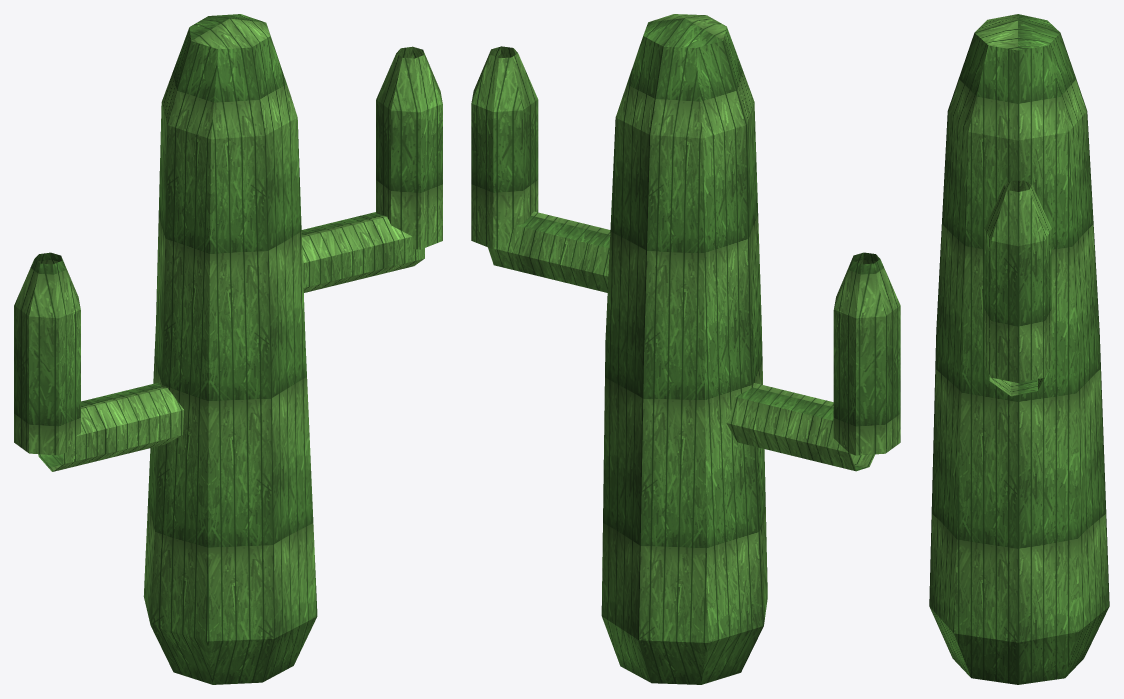
File: saguaro1.glb
The picture shows the model from 3 angles, left to right: view 1: azimuth 30°, elevation 25°; view 2: azimuth 150°, elevation 25°; view 3: azimuth 270°, elevation 25°; orthographic projection.
Parts seen in each view (by area): view 1: Saguaro_1_cuerpo; view 2: Saguaro_1_cuerpo; view 3: Saguaro_1_cuerpo.
Boxes of the visible parts, <box> form: Saguaro_1_cuerpo: <box>14,14,442,684</box>; Saguaro_1_cuerpo: <box>471,14,900,684</box>; Saguaro_1_cuerpo: <box>929,14,1109,684</box>.
Size of the model in its own units: 3.36 by 4.9 by 1.25.
1 material, 1 textured.
